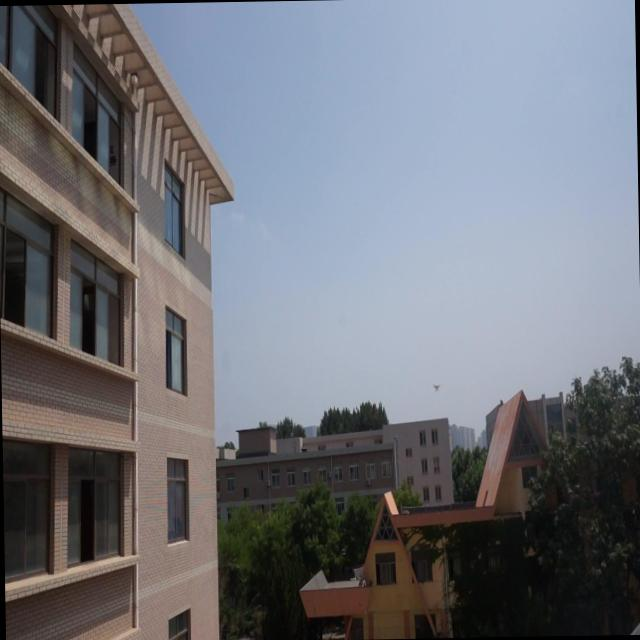drone: (432, 379, 442, 394)
